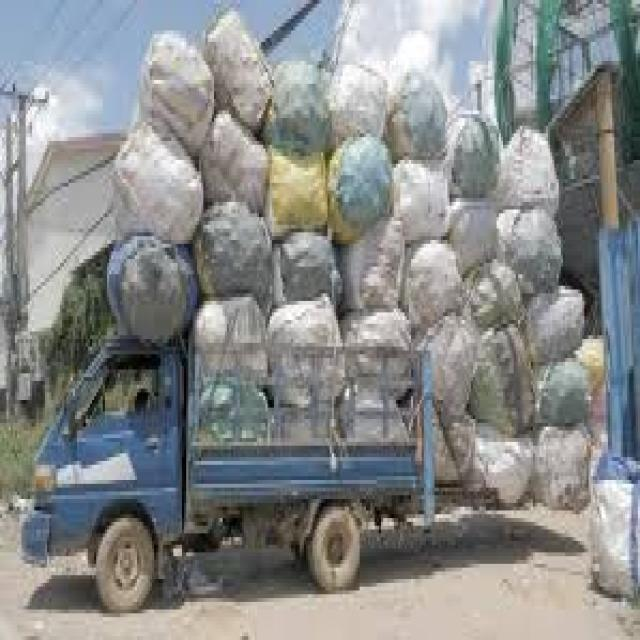uncovered: (29, 15, 590, 618)
